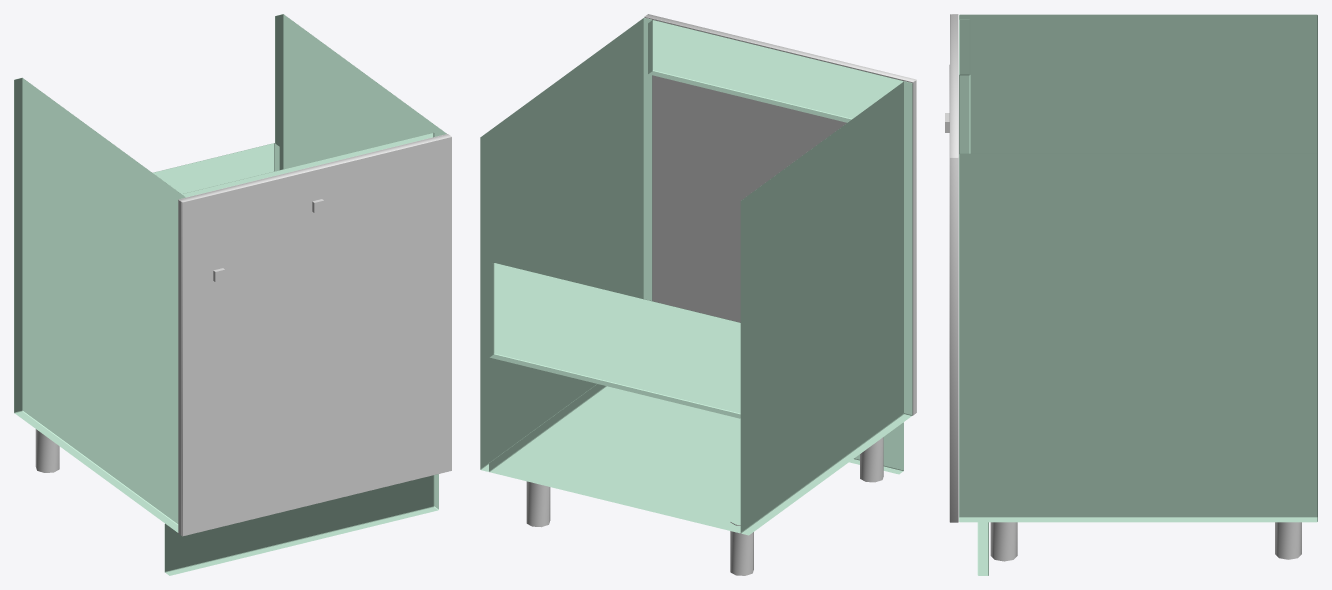
3 renders of one model, left to right at view 1: azimuth 30°, elevation 25°; view 2: azimuth 150°, elevation 25°; view 3: azimuth 270°, elevation 25°, orthographic. The views are drawn at different scales.
Visible parts, largest first — view 1: M_CL_1_F.012, M_CL_2, M_CL_1_F_C.012, Legs.008; view 2: M_CL_2, M_CL_1_F_A.012, M_CL_1_F_C.012, M_CL_1_F_B.012, Legs.008, M_CL_1_F.012; view 3: M_CL_2, M_CL_1_F.012, Legs.008.
Boxes of the visible parts, x1,y1,x2,y2 form: M_CL_1_F.012: [179, 134, 451, 536]; M_CL_2: [14, 14, 446, 575]; M_CL_1_F_C.012: [178, 200, 181, 535]; Legs.008: [35, 429, 59, 472]; M_CL_2: [480, 17, 912, 535]; M_CL_1_F_A.012: [644, 17, 914, 322]; M_CL_1_F_C.012: [645, 17, 916, 414]; M_CL_1_F_B.012: [779, 50, 915, 415]; Legs.008: [526, 437, 883, 575]; M_CL_1_F.012: [644, 14, 916, 412]; M_CL_2: [959, 14, 1317, 575]; M_CL_1_F.012: [949, 14, 958, 522]; Legs.008: [990, 522, 1301, 561].
Size of the model in its own units: 4.47 by 6.12 by 4.9.
